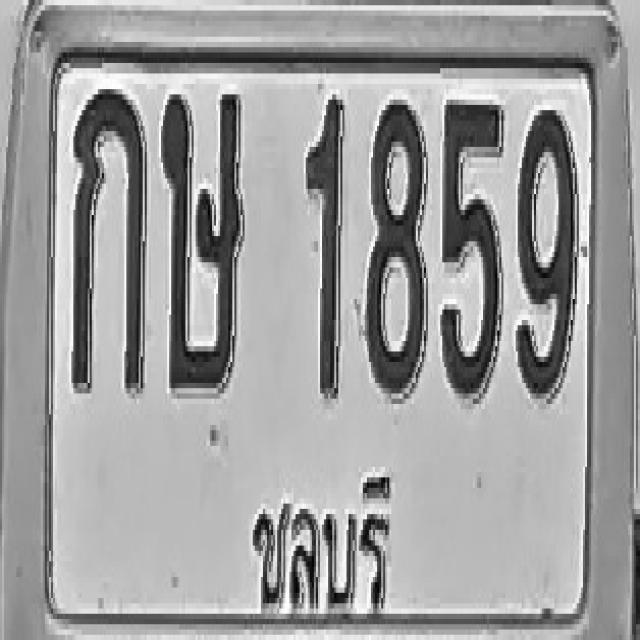1: (305, 92, 343, 396)
10GorGai: (70, 84, 146, 393)
48SorRueSi: (161, 84, 243, 393)
5: (441, 94, 504, 399)
8: (365, 97, 426, 396)
9: (516, 102, 576, 396)
Chonburi: (236, 460, 394, 634)
